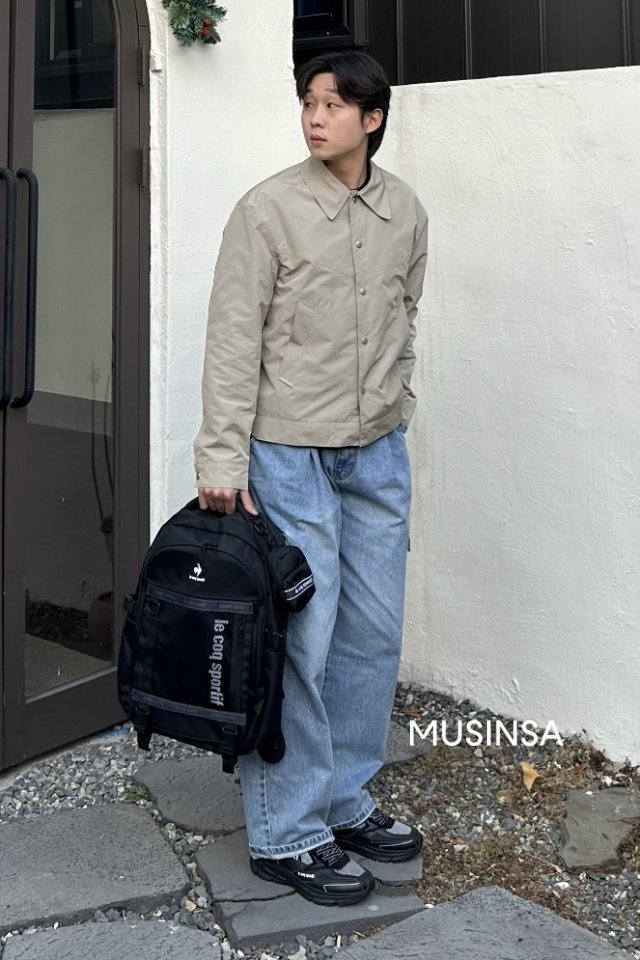Backpack: (116, 486, 309, 771)
Jeans: (240, 427, 425, 851)
Outer: (203, 161, 440, 453)
Shoes: (244, 799, 428, 905)
